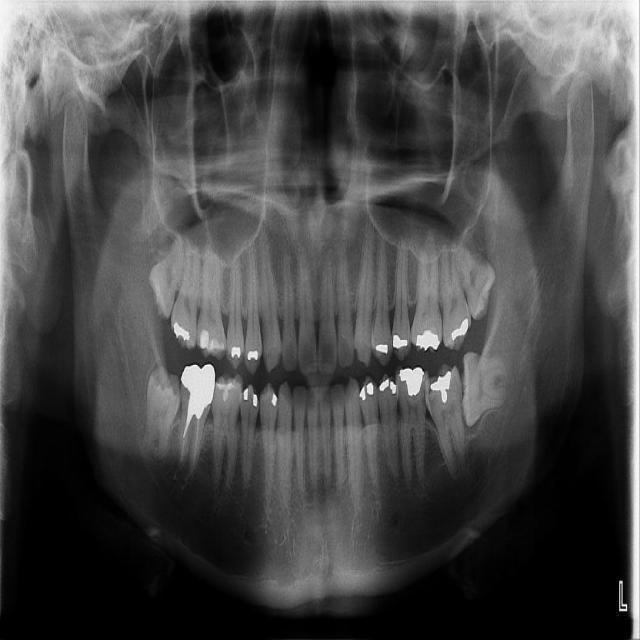Filling: (180, 364, 215, 414), (395, 365, 425, 399), (428, 369, 453, 407), (199, 327, 226, 356), (446, 316, 470, 346), (217, 378, 239, 406), (415, 329, 440, 351), (171, 316, 191, 343), (240, 385, 260, 408), (377, 376, 398, 396), (391, 333, 410, 355), (359, 381, 377, 401), (228, 344, 244, 364), (245, 348, 260, 367), (374, 339, 389, 358), (267, 392, 279, 407)
Root Canal Treatment: (195, 421, 199, 461), (182, 433, 184, 460)
impacted tooth: (136, 364, 180, 462), (462, 355, 513, 427)
